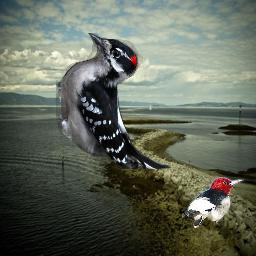Woodpecker: (56, 33, 171, 169), (182, 177, 245, 229)
